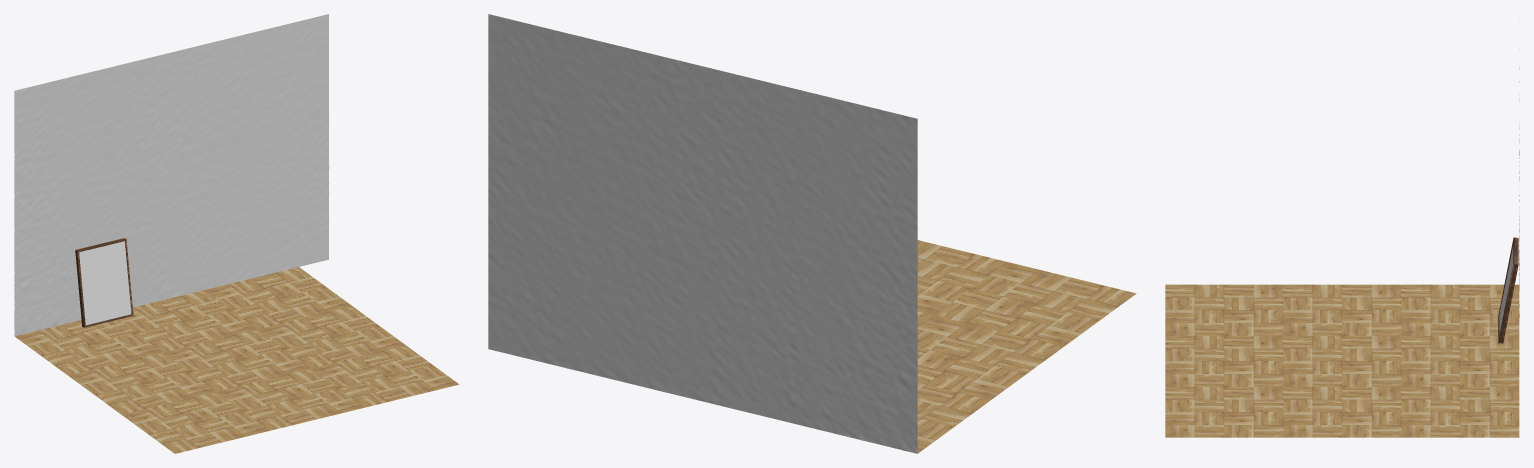
Rendered from poster.fbx.
The picture shows the model from 3 angles, left to right: view 1: azimuth 30°, elevation 25°; view 2: azimuth 150°, elevation 25°; view 3: azimuth 270°, elevation 25°; orthographic projection. The views are drawn at different scales.
Parts seen in each view (by area): view 1: Plane001, Ground, Post Here, Box001; view 2: Plane001, Ground; view 3: Ground, Box001.
Part boxes in pixels (x1,y1,x2,y2): Plane001: [14, 14, 329, 336]; Ground: [15, 267, 459, 453]; Post Here: [79, 241, 131, 325]; Box001: [75, 238, 133, 327]; Plane001: [488, 14, 917, 453]; Ground: [917, 240, 1136, 453]; Ground: [1165, 284, 1519, 437]; Box001: [1498, 237, 1518, 343].
Bounding box in the file's own units: 380 × 284 × 337.
Materials: 2 (2 with a texture image).
